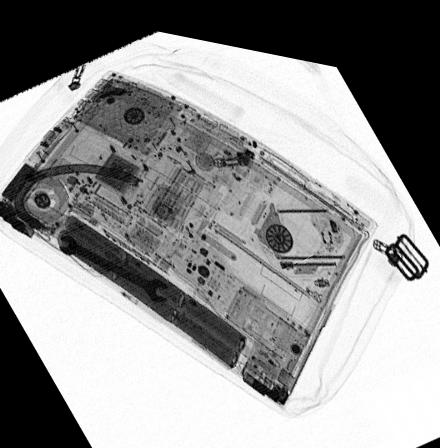Wrench: (55, 228, 169, 296)
